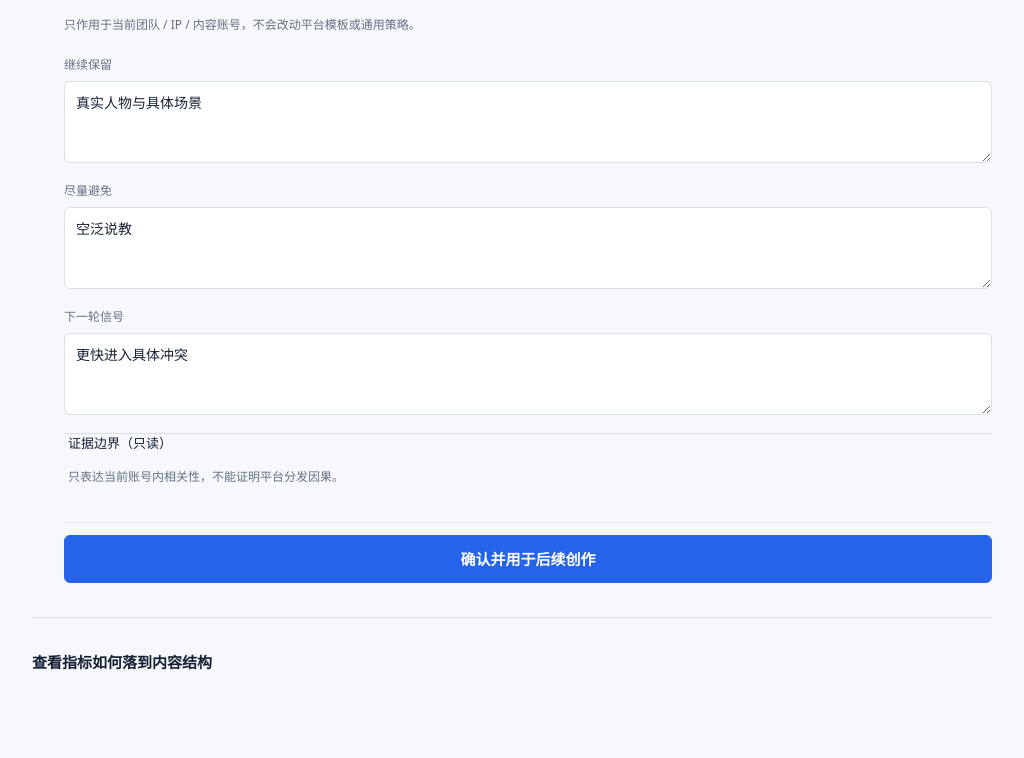
Test: 结果优先的真实复盘工作区 › 首屏先给结论，按需展开钩子、主体、结尾和转化证据
This screenshot has width=1024, height=758.
(page scrolled)
Click the heading "查看指标如何落到内容结构" at (122, 662), box x1=32 y1=652 x2=212 y2=672
(page scrolled)
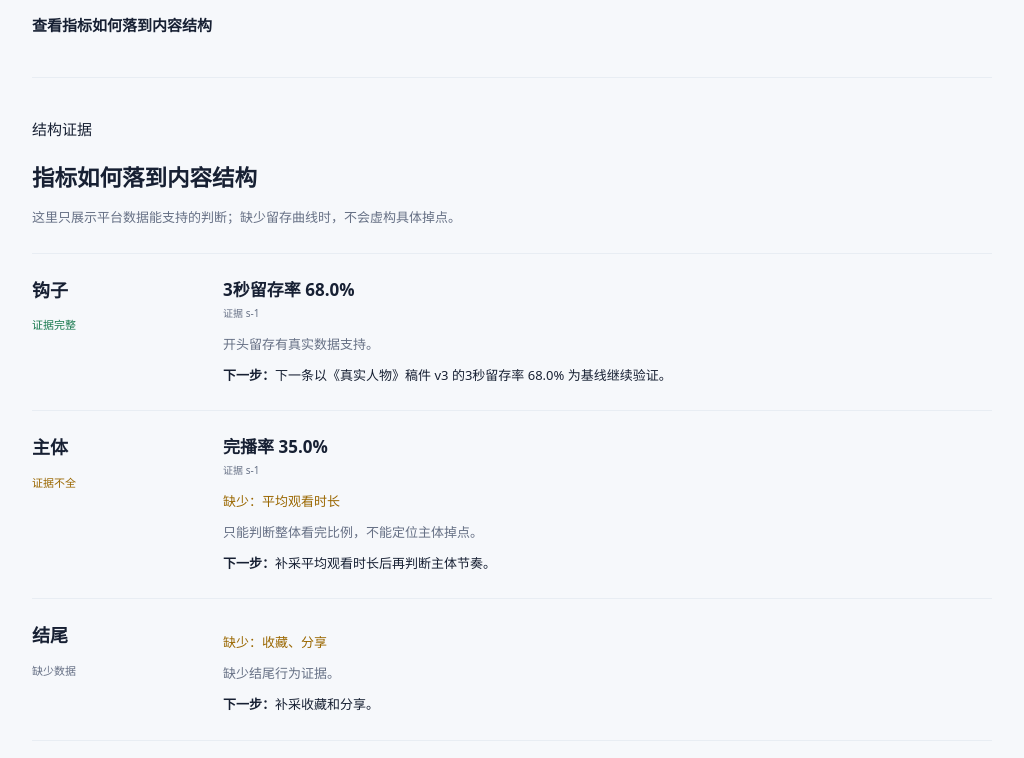
expect the heading "指标如何落到内容结构" is shown: met, box x1=32 y1=162 x2=257 y2=193
expect the heading "钩子" is shown: met, box x1=32 y1=278 x2=68 y2=302
expect the heading "主体" is shown: met, box x1=32 y1=435 x2=68 y2=459
